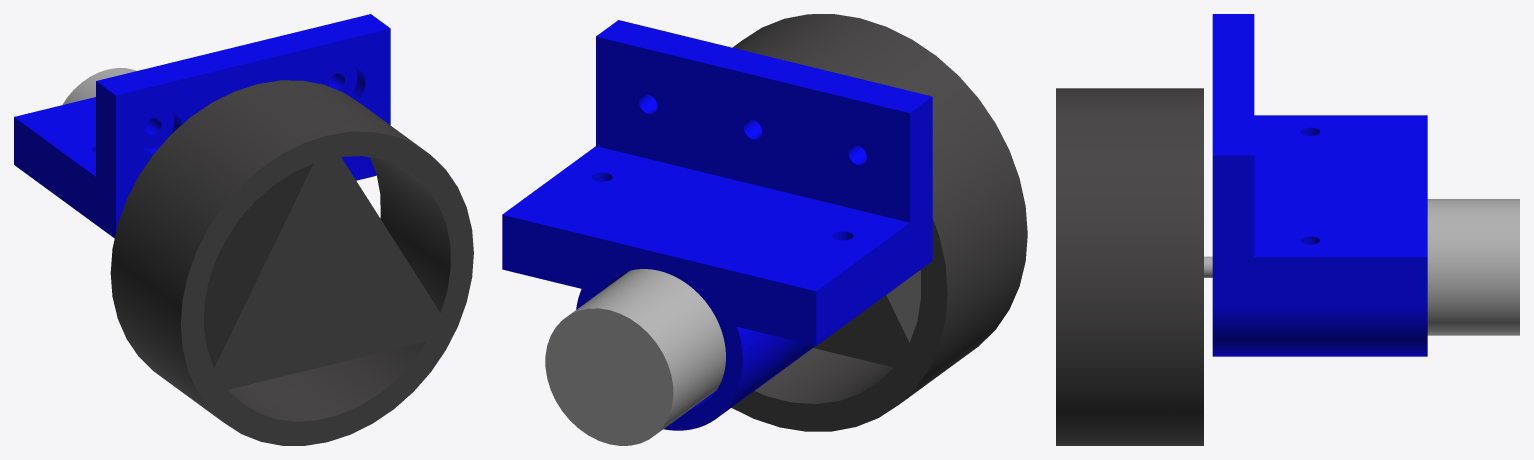
Rendered from Motor_Assembly.dae.
The picture shows the model from 3 angles, left to right: view 1: azimuth 30°, elevation 25°; view 2: azimuth 150°, elevation 25°; view 3: azimuth 270°, elevation 25°; orthographic projection. The views are drawn at different scales.
Parts seen in each view (by area): view 1: Wheel, Motor Mount, Motor; view 2: Motor Mount, Wheel, Motor; view 3: Motor Mount, Wheel, Motor.
Part boxes in pixels (bbox=[...]): Wheel: bbox=[110, 80, 473, 445]; Motor Mount: bbox=[14, 14, 390, 238]; Motor: bbox=[62, 68, 136, 104]; Motor Mount: bbox=[502, 20, 932, 430]; Wheel: bbox=[731, 14, 1027, 431]; Motor: bbox=[545, 269, 725, 445]; Motor Mount: bbox=[1212, 14, 1427, 356]; Wheel: bbox=[1056, 88, 1203, 445]; Motor: bbox=[1204, 199, 1519, 335].
Bounding box in the file's own units: 0.064 × 0.083 × 0.068.
